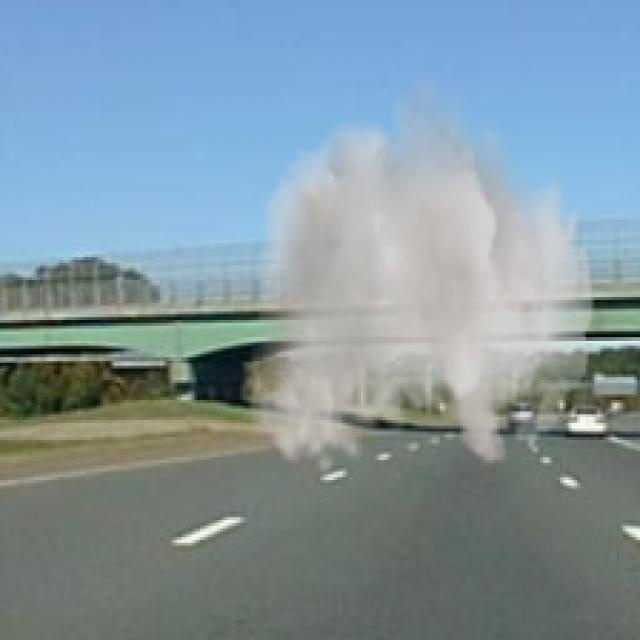smoke: (246, 66, 594, 480)
